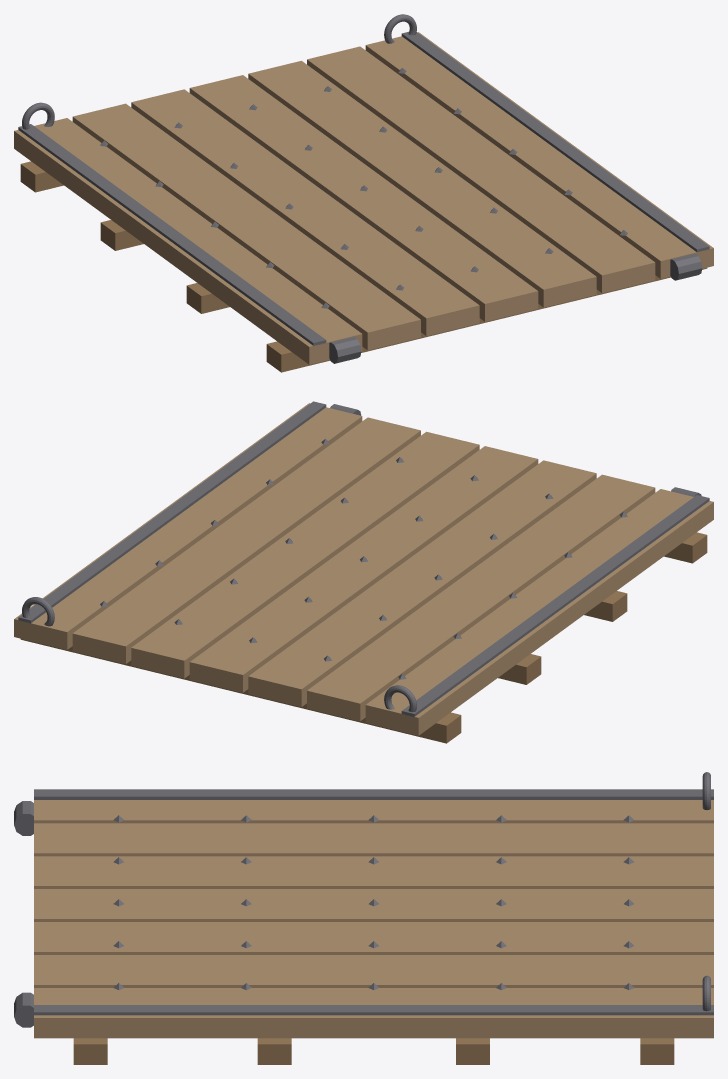
Rendered from drawbridge_platform.glb.
The picture shows the model from 3 angles, top to bottom: view 1: azimuth 30°, elevation 25°; view 2: azimuth 150°, elevation 25°; view 3: azimuth 270°, elevation 25°; orthographic projection. The views are drawn at different scales.
Visible parts, largest first — view 1: Cube.005, Cube.001, Cube.003, Cube.002, Cube.004, Cube, Cube.006, Cube.013, Cube.014, Cube.007, Cube.008, Cube.009 (+3 smaller); view 2: Cube.005, Cube.001, Cube.003, Cube.004, Cube.002, Cube, Cube.006, Cube.013, Cube.014, Cube.010, Cube.009, Cube.007 (+1 smaller); view 3: Cube.006, Cube.001, Cube.002, Cube.003, Cube.004, Cube.005, Cube, Cube.014, Cube.013, Cube.007, Cube.008, Cube.010 (+3 smaller).
Boxes of the visible parts, box(x1,y1,x2,y2) form: Cube.005: box(307, 46, 655, 293); Cube.001: box(72, 103, 420, 350); Cube.003: box(189, 75, 538, 321); Cube.002: box(131, 89, 479, 335); Cube.004: box(248, 60, 596, 307); Cube: box(14, 118, 362, 364); Cube.006: box(365, 32, 713, 278); Cube.013: box(18, 124, 326, 346); Cube.014: box(401, 31, 709, 252); Cube.007: box(266, 268, 707, 372); Cube.008: box(186, 283, 229, 313); Cube.009: box(100, 220, 143, 250); Cube.005: box(72, 417, 420, 664); Cube.001: box(307, 474, 655, 721); Cube.003: box(189, 446, 538, 692); Cube.004: box(131, 431, 479, 678); Cube.002: box(248, 460, 596, 706); Cube: box(365, 489, 713, 735); Cube.006: box(14, 403, 362, 649); Cube.013: box(401, 495, 709, 717); Cube.014: box(18, 401, 326, 623); Cube.010: box(20, 639, 461, 743); Cube.009: box(498, 654, 541, 684); Cube.007: box(664, 532, 707, 563); Cube.006: box(34, 988, 713, 1038); Cube.001: box(34, 823, 713, 856); Cube.002: box(34, 856, 713, 888); Cube.003: box(34, 889, 713, 921); Cube.004: box(34, 922, 713, 954); Cube.005: box(34, 955, 713, 987); Cube: box(34, 800, 713, 823); Cube.014: box(34, 1005, 713, 1015); Cube.013: box(34, 789, 713, 799); Cube.007: box(73, 1038, 107, 1064); Cube.008: box(257, 1038, 291, 1064); Cube.010: box(640, 1038, 674, 1064).
Size of the model in its own units: 4 by 0.54 by 4.94.
